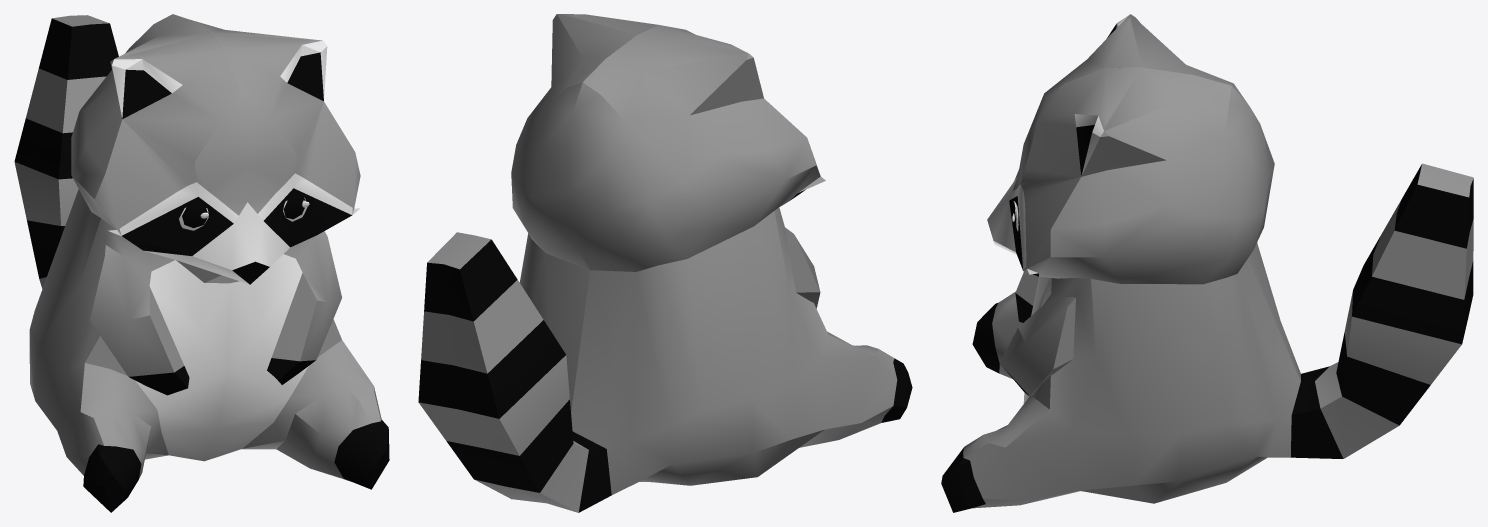
The model's file is raccoon.glb.
The picture shows the model from 3 angles, left to right: view 1: azimuth 30°, elevation 25°; view 2: azimuth 150°, elevation 25°; view 3: azimuth 270°, elevation 25°; orthographic projection. The views are drawn at different scales.
Parts seen in each view (by area): view 1: raccoon; view 2: raccoon; view 3: raccoon.
Boxes of the visible parts, x1=… form: raccoon: x1=14, y1=14, x2=389, y2=512; raccoon: x1=418, y1=14, x2=912, y2=512; raccoon: x1=941, y1=14, x2=1473, y2=512.
Size of the model in its own units: 0.7709 by 0.983 by 1.14.
4 materials, 1 textured.
